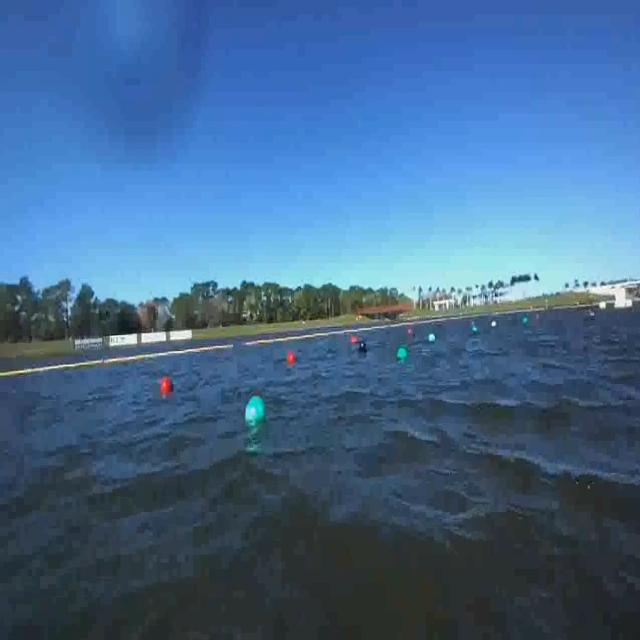black-buoy: (358, 343, 367, 354)
green-buoy: (246, 398, 267, 430), (396, 347, 406, 360)
red-buoy: (278, 337, 303, 370), (159, 374, 172, 396), (351, 337, 359, 346)
